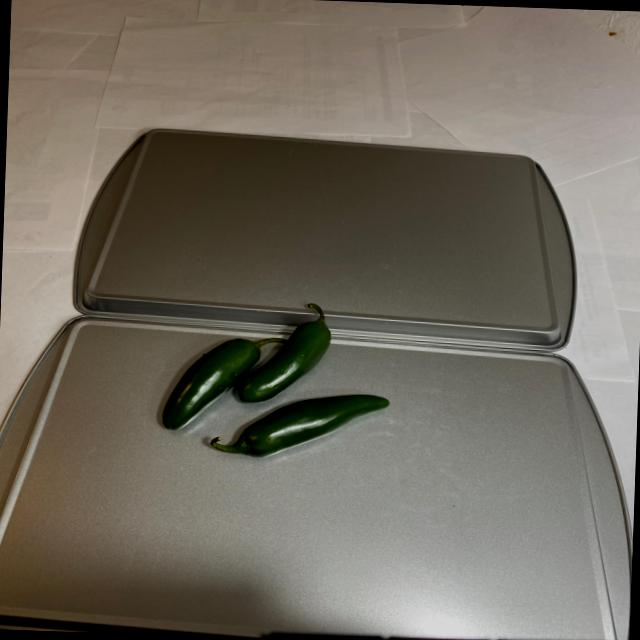chilli: (157, 294, 399, 462)
